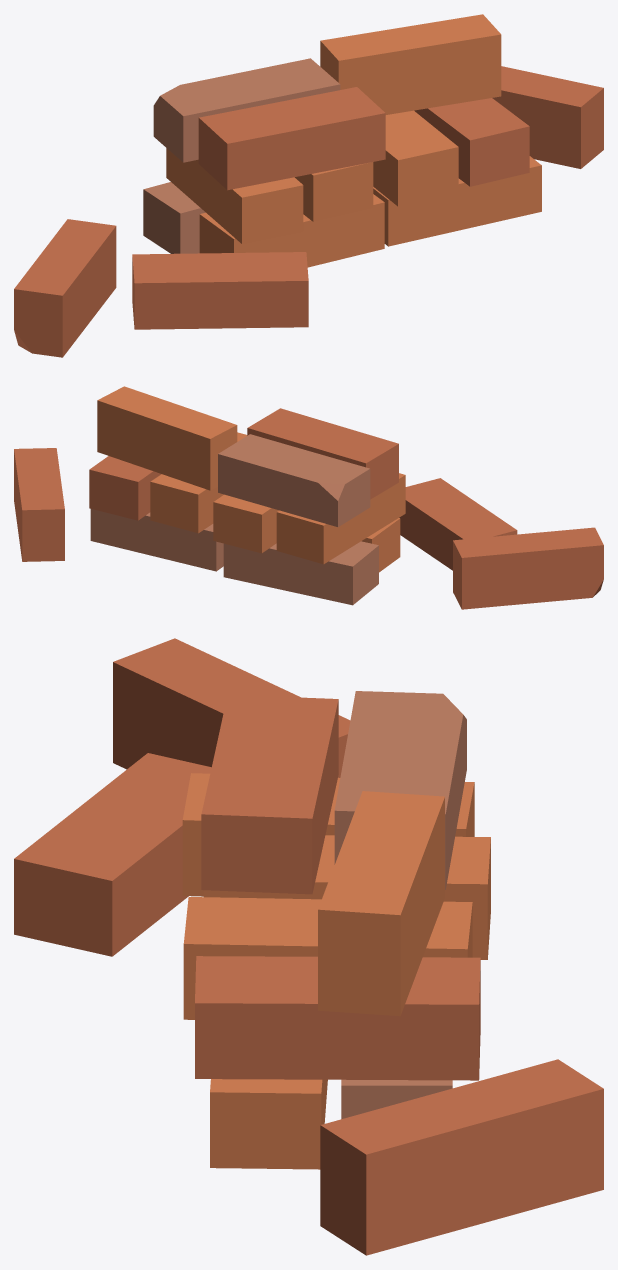
File: Brick_Pile_m_03 2.fbx
3 renders of one model, top to bottom at view 1: azimuth 30°, elevation 25°; view 2: azimuth 150°, elevation 25°; view 3: azimuth 270°, elevation 25°, orthographic. The views are drawn at different scales.
Visible parts, largest first — view 1: Brick_Pile_m_03; view 2: Brick_Pile_m_03; view 3: Brick_Pile_m_03.
Part boxes in pixels (x1,y1,x2,y2): Brick_Pile_m_03: [14, 14, 603, 357]; Brick_Pile_m_03: [14, 386, 603, 609]; Brick_Pile_m_03: [14, 638, 603, 1255].
Size of the model in its own units: 110 by 25 by 52.92.
